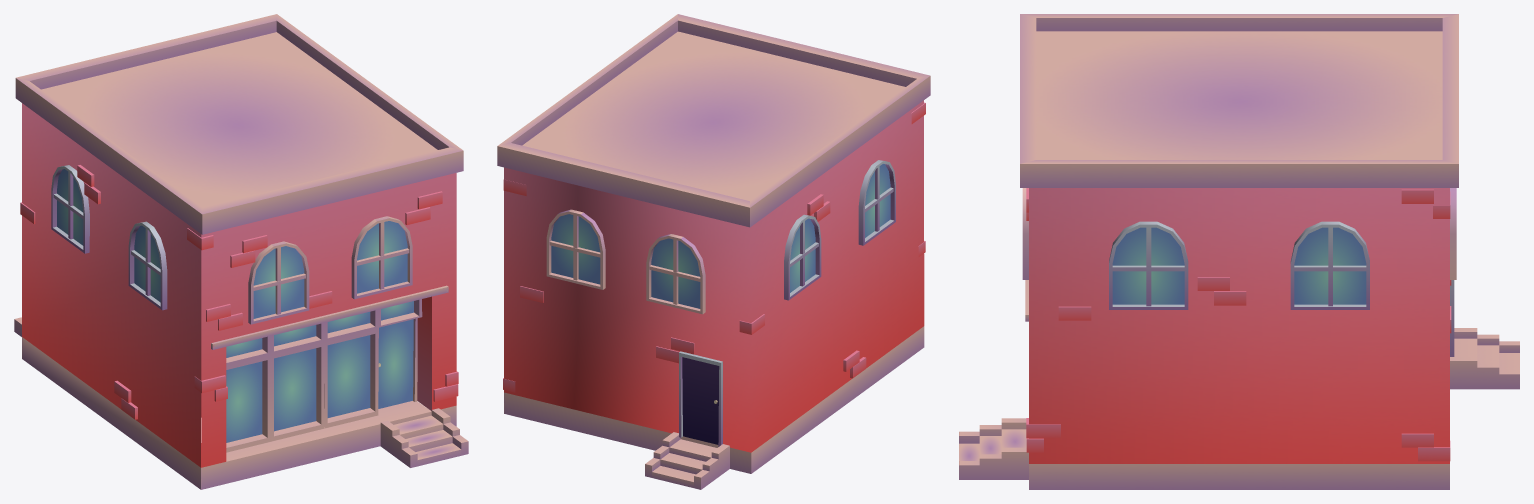
3 renders of one model, left to right at view 1: azimuth 30°, elevation 25°; view 2: azimuth 150°, elevation 25°; view 3: azimuth 270°, elevation 25°, orthographic. The views are drawn at different scales.
Parts seen in each view (by area): view 1: SM_2F_07; view 2: SM_2F_07; view 3: SM_2F_07.
Boxes of the visible parts, x1,y1,x2,y2 form: SM_2F_07: [14, 14, 468, 489]; SM_2F_07: [497, 14, 930, 489]; SM_2F_07: [959, 14, 1519, 489].
Bounding box in the file's own units: 7.78 × 12.09 × 7.81.
